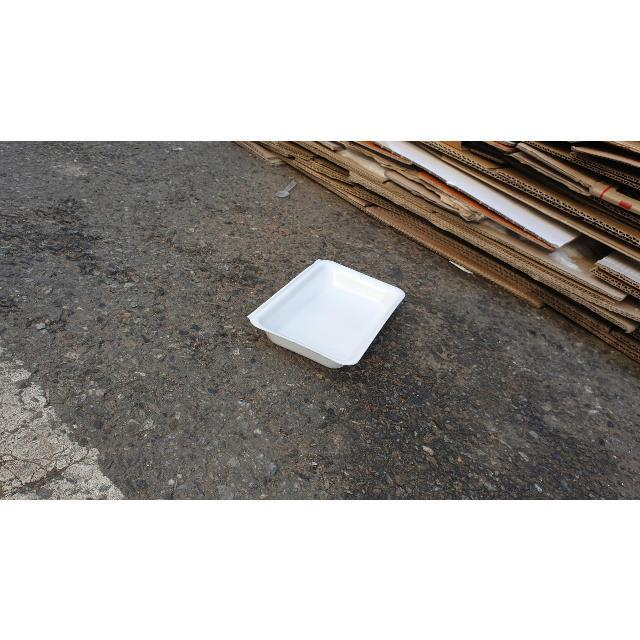Recipiente plastico: (248, 260, 405, 368)
